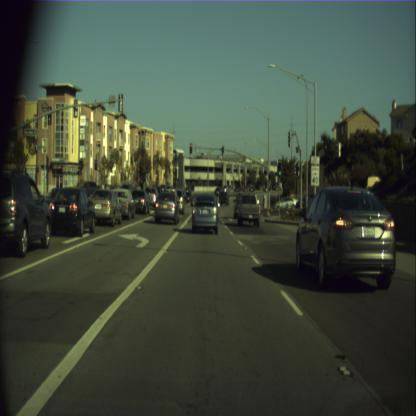Green: (277, 160, 282, 176)
GreenLeft: (221, 144, 224, 156)
RedLeft: (188, 142, 192, 154)
